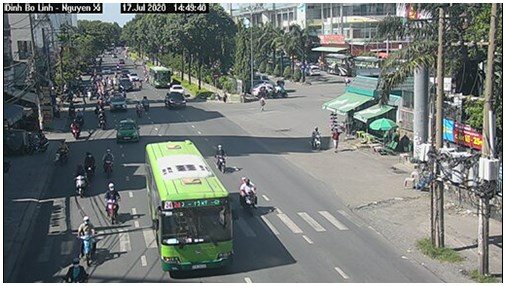di_bo: (331, 127, 342, 157), (257, 94, 268, 116)
xe_buyt: (145, 140, 235, 273), (149, 66, 174, 89)
xe_hoi: (115, 118, 141, 145), (165, 92, 189, 112), (108, 94, 128, 113), (117, 78, 133, 94)
xe_may: (76, 214, 100, 264), (237, 177, 259, 216), (103, 181, 122, 225), (97, 143, 117, 178), (62, 259, 90, 283), (72, 163, 90, 197), (79, 152, 97, 180), (311, 124, 325, 152), (55, 137, 70, 162), (215, 142, 227, 173), (93, 108, 107, 130), (71, 115, 83, 139), (140, 93, 153, 114), (135, 99, 143, 121), (97, 94, 107, 109)
